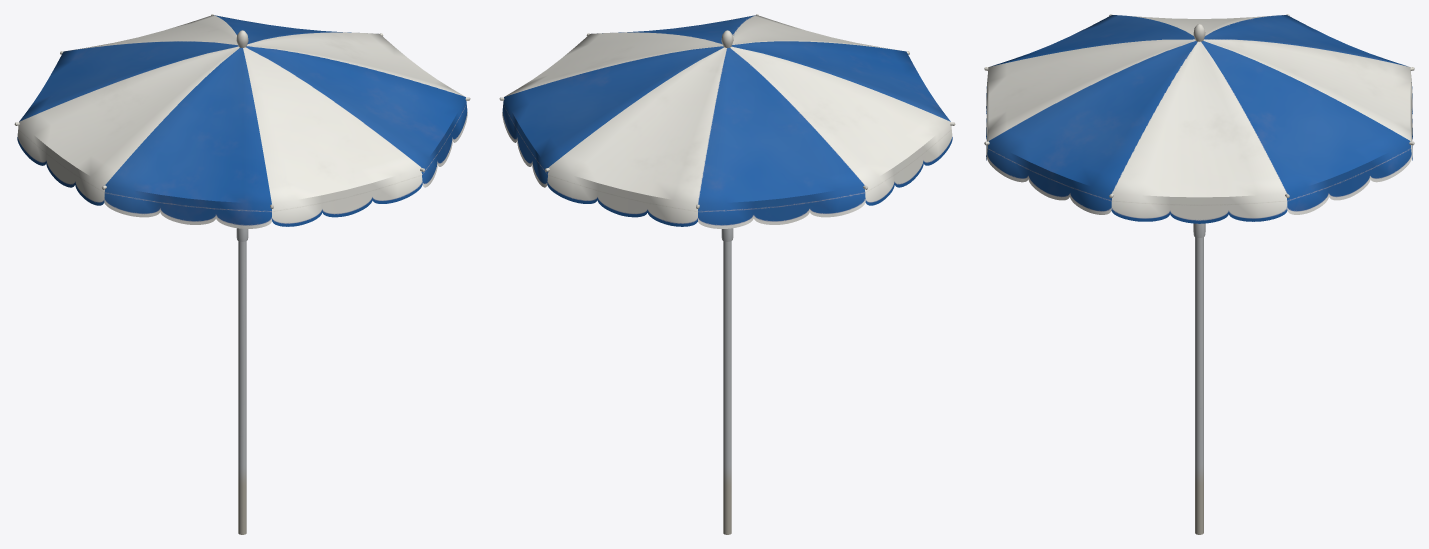
File: BeachParasol_A.gltf
3 renders of one model, left to right at view 1: azimuth 30°, elevation 25°; view 2: azimuth 150°, elevation 25°; view 3: azimuth 270°, elevation 25°, orthographic.
Parts seen in each view (by area): view 1: BeachParasol_A; view 2: BeachParasol_A; view 3: BeachParasol_A.
Boxes of the visible parts, x1,y1,x2,y2 form: BeachParasol_A: (14,14,470,534); BeachParasol_A: (499,14,955,534); BeachParasol_A: (984,14,1414,534).
Size of the model in its own units: 2.07 by 2.7 by 2.07.
2 materials, 2 textured.
